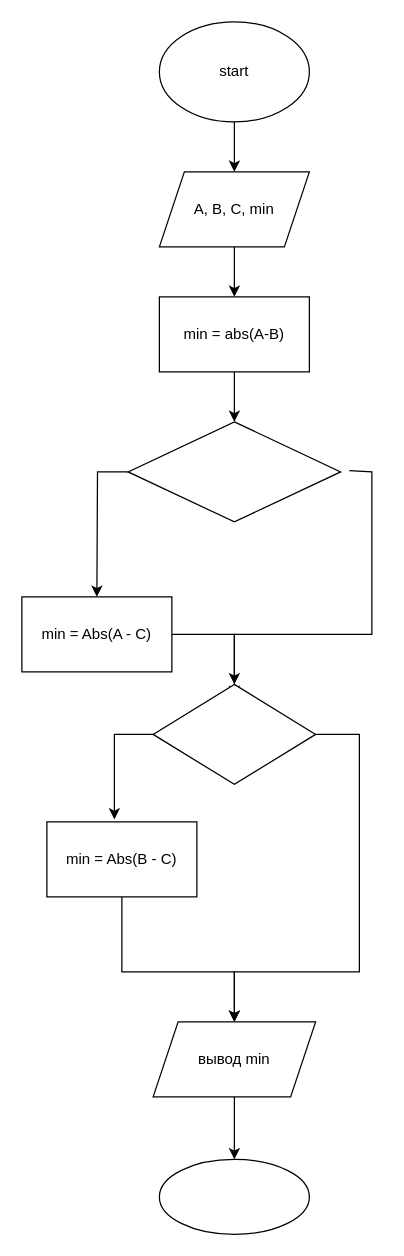
Image size: 404x1256. Some labels were removed from this diagram. Each missing label, with the centre of its shape:
"Abs(A - C) < min" goes at pixel 234 471.
"Abs(B - C) < min" goes at pixel 234 733.
"end" goes at pixel 233 1196.
